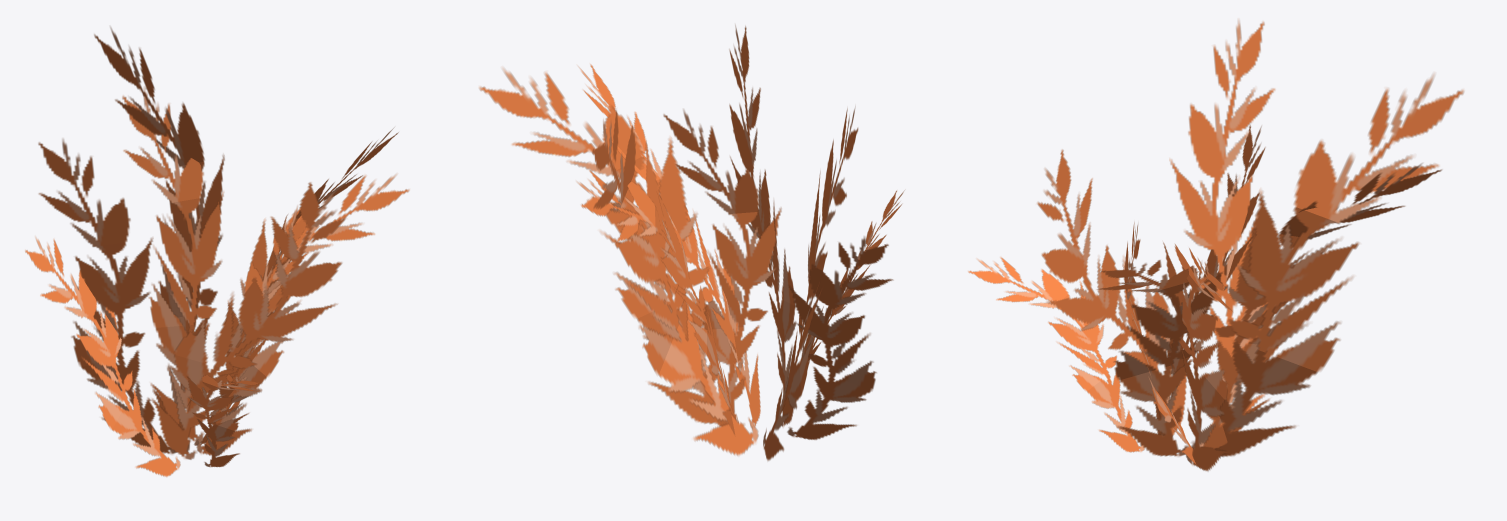
Rendered from Plant_7.glb.
The picture shows the model from 3 angles, left to right: view 1: azimuth 30°, elevation 25°; view 2: azimuth 150°, elevation 25°; view 3: azimuth 270°, elevation 25°; orthographic projection. The views are drawn at different scales.
Parts seen in each view (by area): view 1: Plant_7; view 2: Plant_7; view 3: Plant_7.
Part boxes in pixels (<box>): Plant_7: <box>25,26,409,476</box>; Plant_7: <box>479,24,904,460</box>; Plant_7: <box>968,19,1463,471</box>.
Size of the model in its own units: 1.06 by 1.08 by 1.08.
Materials: 1 (1 with a texture image).
